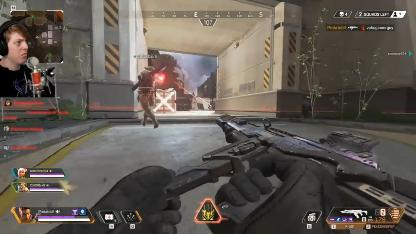Target: (137, 65, 159, 127)
